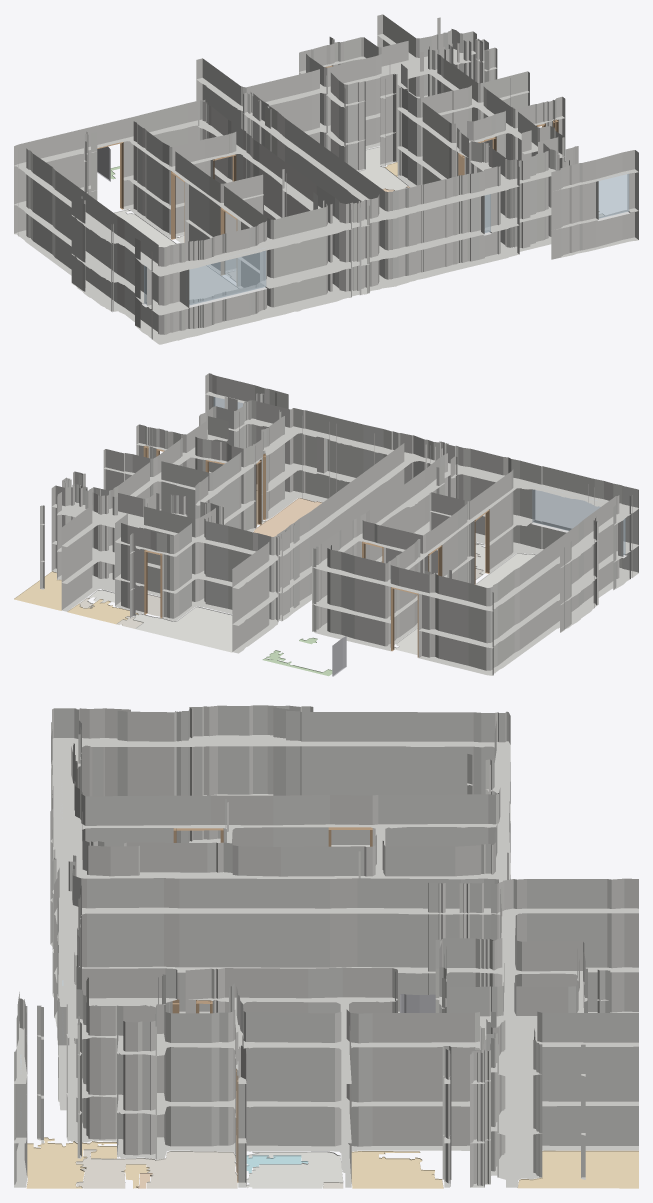
3 views of the same model, one above another, from view 1: azimuth 30°, elevation 25°; view 2: azimuth 150°, elevation 25°; view 3: azimuth 270°, elevation 25° (orthographic). The views are drawn at different scales.
Visible parts, largest first — view 1: walls, window_11, floor_34_Undefined, window_13, floor_35_Undefined; view 2: walls, floor_37_Undefined, window_11, floor_34_Undefined, floor_11_Living_Room, floor_8_Kitchen, floor_9_Kitchen, railings, door_0, door_7; view 3: walls, floor_18_Entry, floor_8_Kitchen, floor_3_Kitchen, floor_30_Undefined, floor_6_Kitchen.
Part boxes in pixels (box(x1,y1,x2,y2)): walls: box(14, 14, 638, 344); window_11: box(186, 248, 266, 305); floor_34_Undefined: box(113, 209, 238, 299); window_13: box(598, 172, 629, 218); floor_35_Undefined: box(358, 146, 408, 190); walls: box(40, 373, 638, 675); floor_37_Undefined: box(133, 606, 232, 652); window_11: box(532, 488, 600, 530); floor_34_Undefined: box(394, 553, 535, 654); floor_11_Living_Room: box(253, 498, 322, 536); floor_8_Kitchen: box(14, 571, 61, 610); floor_9_Kitchen: box(67, 599, 138, 624); railings: box(332, 636, 346, 676); door_0: box(144, 549, 162, 618); door_7: box(474, 509, 489, 584); walls: box(14, 705, 638, 1187); floor_18_Entry: box(76, 1149, 237, 1188); floor_8_Kitchen: box(517, 1150, 638, 1188); floor_3_Kitchen: box(26, 1137, 116, 1188); floor_30_Undefined: box(246, 1151, 343, 1188); floor_6_Kitchen: box(351, 1151, 443, 1188).
Bounding box in the file's own units: 15.2 × 2.72 × 11.5.
